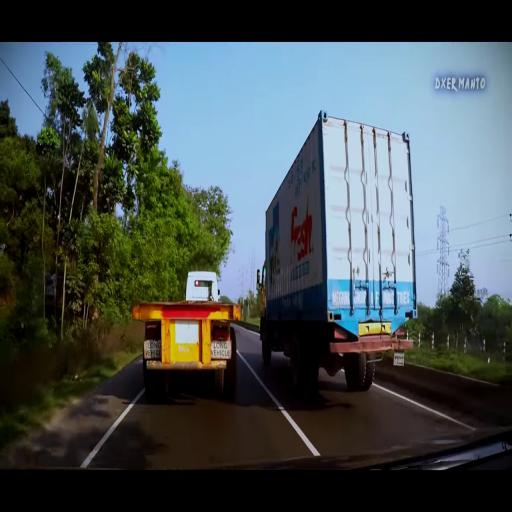truck: (257, 106, 422, 392), (131, 269, 246, 404)
